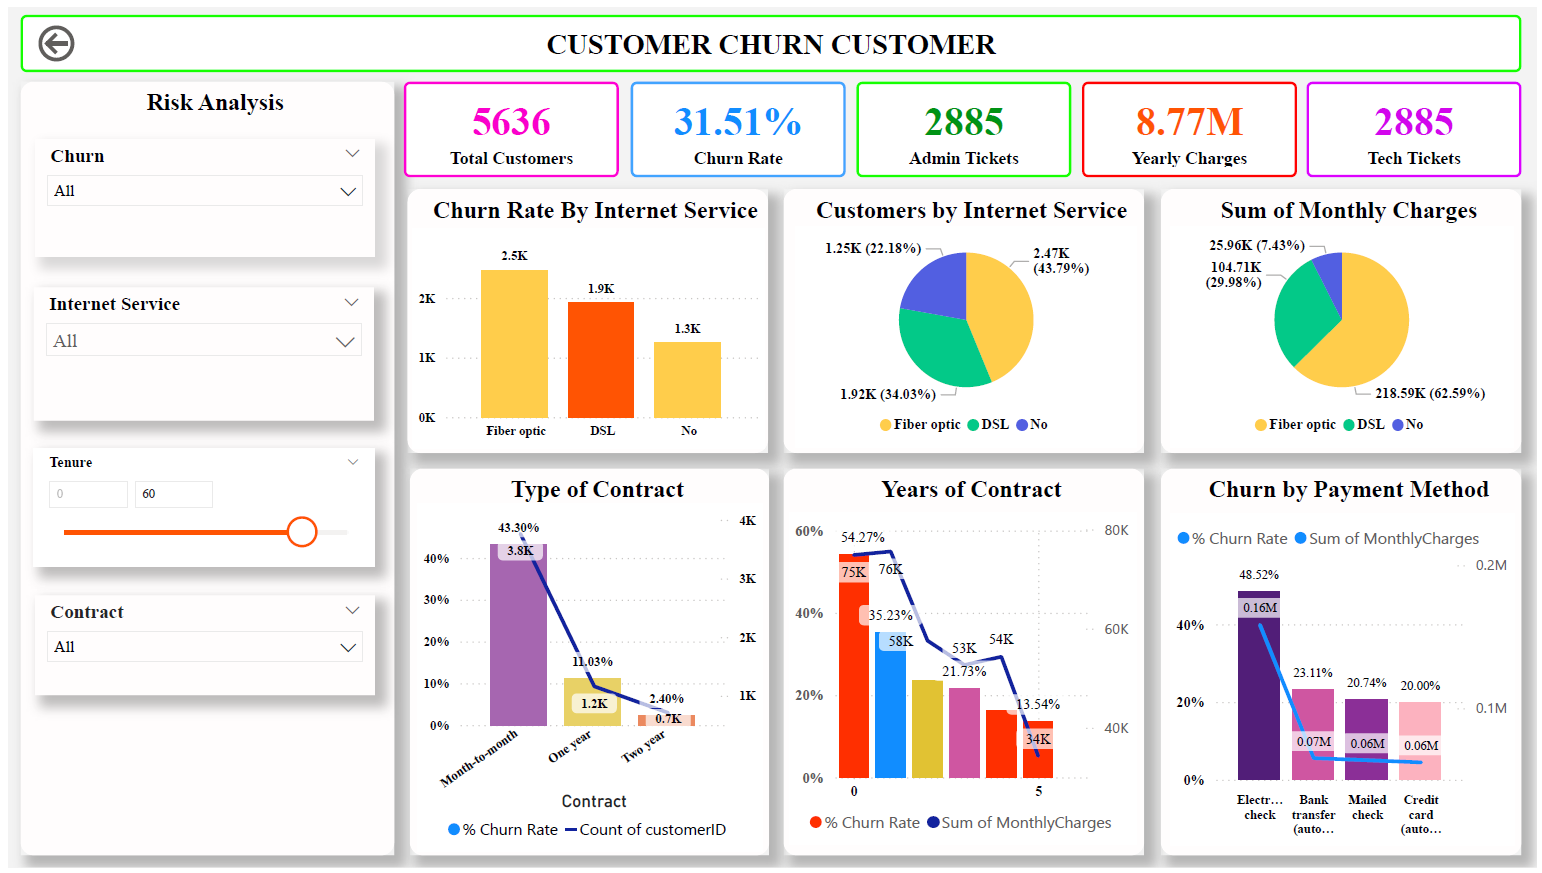

What the dashboard file says about the page in this screenshot:
{"tool":"powerbi","page":{"name":"CHURN Risk Analysis Dashboard","canvas":[1280,720],"ordinal":1},"visuals":[{"type":"textbox","box":[9.8,6.1,1257.1,47.7],"z":0},{"type":"shape","box":[9.8,62.4,313,648.1],"z":1000},{"type":"card","title":"Customers At Risk","fields":{"Values":["CountNonNull(01 Churn-Dataset.customerID)"]},"box":[331.4,62.4,179.8,79.5],"z":2000},{"type":"card","title":"Of Tech Tickets","fields":{"Values":["Churn.% Churn Rate"]},"box":[520.9,62.4,179.8,79.5],"z":3000},{"type":"card","title":"Admin Tickets","fields":{"Values":["Sum(01 Churn-Dataset.numAdminTickets)"]},"box":[710.5,62.4,179.8,79.5],"z":4000},{"type":"card","title":"Monthly Chages","fields":{"Values":["Sum(Churn.numAdminTickets)"]},"box":[1087.1,62.4,179.8,79.5],"z":5000},{"type":"card","title":"Yearly Charges","fields":{"Values":["Sum(01 Churn-Dataset.TotalCharges)"]},"box":[898.8,62.4,179.8,79.5],"z":6000},{"type":"slicer","fields":{"Values":["Churn.Churn"]},"box":[22,110.1,284.9,99],"z":7000},{"type":"slicer","fields":{"Values":["Churn.InternetService"]},"box":[20.8,233.6,284.9,112.5],"z":8000},{"type":"slicer","fields":{"Values":["Churn.tenure"]},"box":[20.8,369.3,284.9,99],"z":9000},{"type":"slicer","fields":{"Values":["Churn.Contract"]},"box":[22,491.6,284.9,84.4],"z":10000},{"type":"shape","box":[333.8,151.6,302,221.3],"z":11000},{"type":"shape","box":[649.3,151.6,302,221.3],"z":12000},{"type":"shape","box":[964.8,151.6,302,221.3],"z":13000},{"type":"shape","box":[336.3,386.4,300.8,324.1],"z":14000},{"type":"shape","box":[649.3,386.4,302,324.1],"z":15000},{"type":"shape","box":[964.8,386.4,302,324.1],"z":16000},{"type":"columnChart","fields":{"Category":["Churn.InternetService"],"Y":["CountNonNull(Churn.Churn)"]},"box":[337.5,184.6,295.9,184.6],"z":17000},{"type":"pieChart","fields":{"Category":["Churn.InternetService"],"Y":["CountNonNull(Churn.customerID)"]},"box":[659.1,183.4,286.1,184.6],"z":18000},{"type":"lineStackedColumnComboChart","fields":{"Category":["Churn.Contract"],"Y2":["CountNonNull(Churn.customerID)"],"Y":["Churn.% Churn Rate"]},"box":[342.4,414.5,288.6,292.3],"z":19000},{"type":"lineStackedColumnComboChart","fields":{"Category":["Churn.Tenure in Years"],"Y2":["Sum(Churn.MonthlyCharges)"],"Y":["Churn.% Churn Rate"]},"box":[654.2,423.1,291,277.6],"z":20000},{"type":"lineStackedColumnComboChart","fields":{"Y":["Churn.% Churn Rate"],"Y2":["Sum(Churn.MonthlyCharges)"],"Category":["Churn.PaymentMethod"]},"box":[973.4,424.3,287.4,277.6],"z":21000},{"type":"pieChart","fields":{"Category":["Churn.InternetService"],"Y":["Sum(Churn.MonthlyCharges)"]},"box":[973.4,183.4,286.1,184.6],"z":22000},{"type":"actionButton","box":[19.6,9.8,48.9,40.4],"z":22001}]}

Visuals, with their boxes in screenshot pixels (x1, y1, x2, y2), scaled from the page's 1280x720 canvas onto the 1542x873 screenshot:
textbox: select_region(12, 7, 1526, 65)
shape: select_region(12, 76, 389, 861)
"Customers At Risk" card: select_region(399, 76, 616, 172)
"Of Tech Tickets" card: select_region(628, 76, 844, 172)
"Admin Tickets" card: select_region(856, 76, 1073, 172)
"Monthly Chages" card: select_region(1310, 76, 1526, 172)
"Yearly Charges" card: select_region(1083, 76, 1299, 172)
slicer - Churn.Churn: select_region(27, 133, 370, 254)
slicer - Churn.InternetService: select_region(25, 283, 368, 420)
slicer - Churn.tenure: select_region(25, 448, 368, 568)
slicer - Churn.Contract: select_region(27, 596, 370, 698)
shape: select_region(402, 184, 766, 452)
shape: select_region(782, 184, 1146, 452)
shape: select_region(1162, 184, 1526, 452)
shape: select_region(405, 469, 768, 861)
shape: select_region(782, 469, 1146, 861)
shape: select_region(1162, 469, 1526, 861)
columnChart - Churn.InternetService x CountNonNull(Churn.Churn): select_region(407, 224, 763, 448)
pieChart - Churn.InternetService x CountNonNull(Churn.customerID): select_region(794, 222, 1139, 446)
lineStackedColumnComboChart - Churn.Contract x CountNonNull(Churn.customerID): select_region(412, 503, 760, 857)
lineStackedColumnComboChart - Churn.Tenure in Years x Sum(Churn.MonthlyCharges): select_region(788, 513, 1139, 850)
lineStackedColumnComboChart - Churn.% Churn Rate x Sum(Churn.MonthlyCharges): select_region(1173, 514, 1519, 851)
pieChart - Churn.InternetService x Sum(Churn.MonthlyCharges): select_region(1173, 222, 1517, 446)
actionButton: select_region(24, 12, 83, 61)
